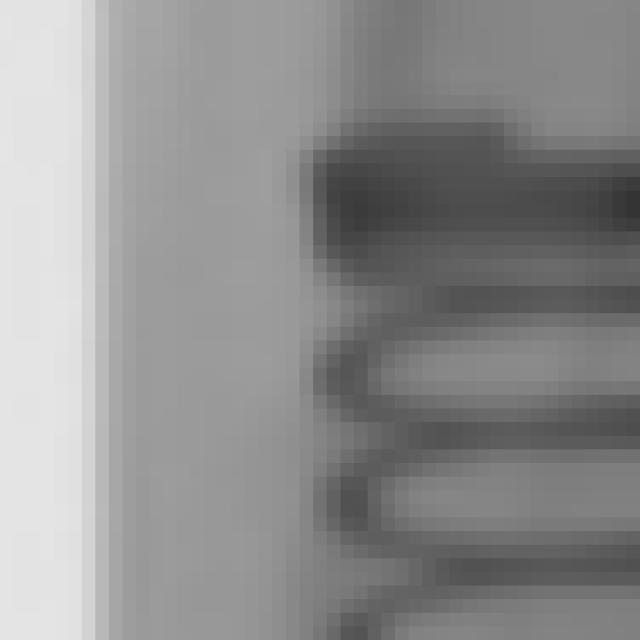BLADE: (555, 162, 640, 248)
